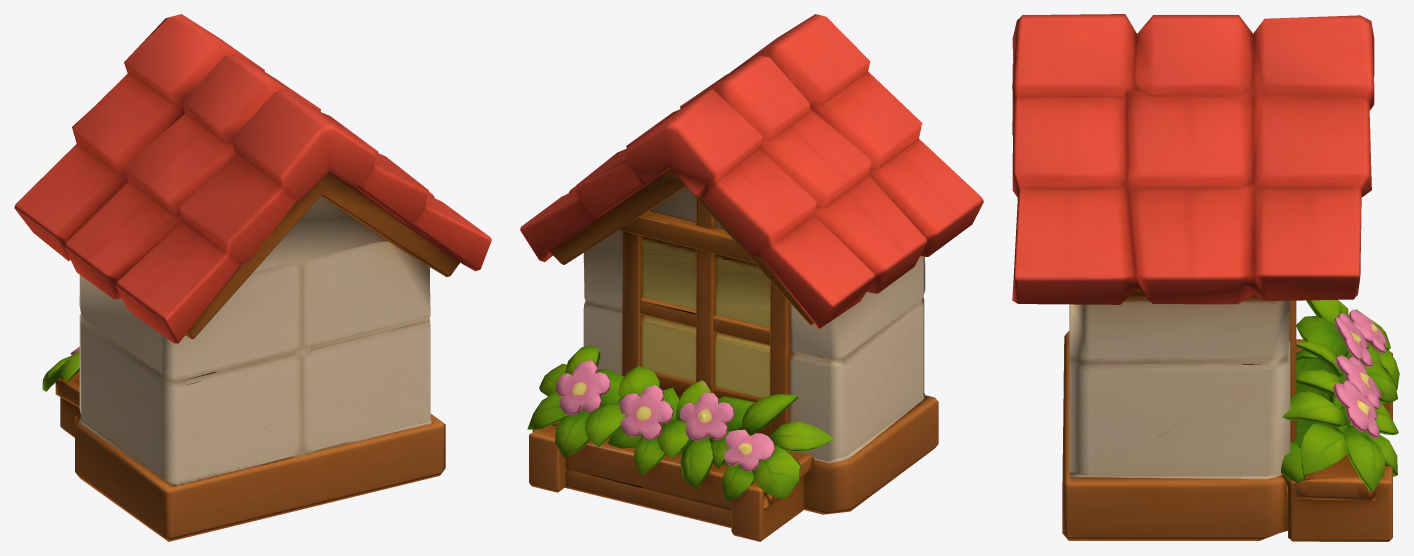
File: window_roofed.glb
3 renders of one model, left to right at view 1: azimuth 30°, elevation 25°; view 2: azimuth 150°, elevation 25°; view 3: azimuth 270°, elevation 25°, orthographic. The views are drawn at different scales.
Parts seen in each view (by area): view 1: geometry_0; view 2: geometry_0; view 3: geometry_0.
Boxes of the visible parts, x1=… form: geometry_0: x1=14, y1=14, x2=491, y2=541; geometry_0: x1=520, y1=14, x2=983, y2=541; geometry_0: x1=1012, y1=14, x2=1399, y2=541.
Size of the model in its own units: 0.8208 by 0.9546 by 0.7427.
1 material, 1 textured.
